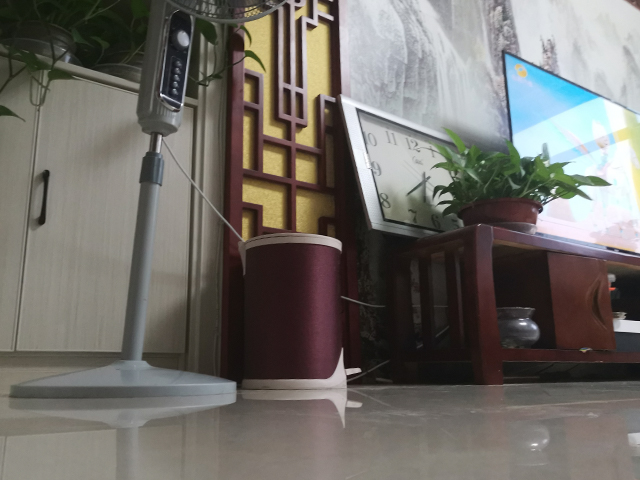cabinet: (1, 44, 203, 399), (387, 221, 640, 388)
trashcan: (236, 228, 365, 391)
wire: (348, 293, 397, 383)
